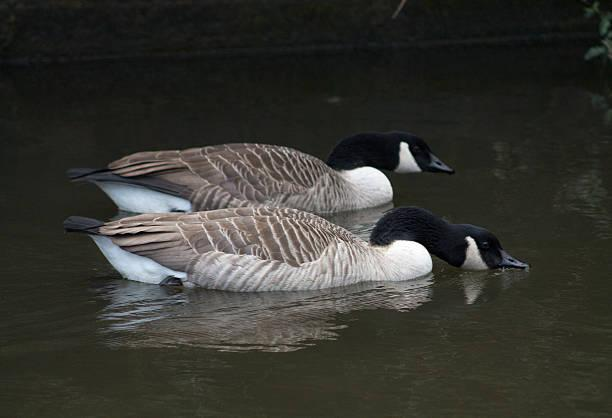Canadian-Goose: (64, 202, 531, 296), (62, 123, 456, 209)
